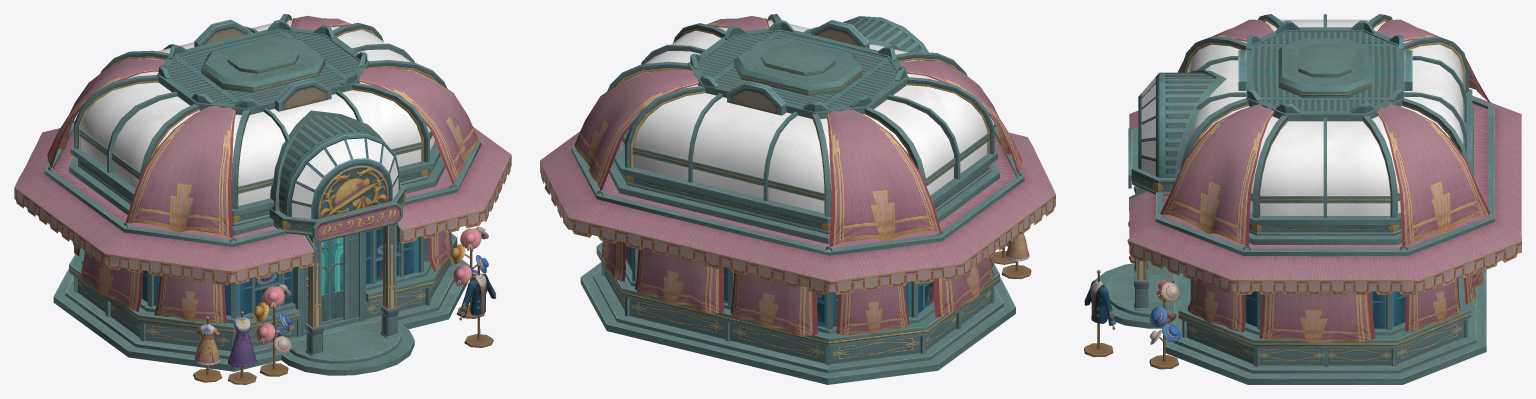
File: Homeworld_Exterior_Fd_Build_DressStore_01_Lod0.fbx
3 views of the same model, side by side, from view 1: azimuth 30°, elevation 25°; view 2: azimuth 150°, elevation 25°; view 3: azimuth 270°, elevation 25° (orthographic). The views are drawn at different scales.
Parts seen in each view (by area): view 1: Homeworld_Exterior_Fd_Build_DressStore_01_Lod0; view 2: Homeworld_Exterior_Fd_Build_DressStore_01_Lod0; view 3: Homeworld_Exterior_Fd_Build_DressStore_01_Lod0.
Boxes of the visible parts, box(x1,y1,x2,y2) form: Homeworld_Exterior_Fd_Build_DressStore_01_Lod0: box(14, 14, 511, 384); Homeworld_Exterior_Fd_Build_DressStore_01_Lod0: box(540, 14, 1055, 384); Homeworld_Exterior_Fd_Build_DressStore_01_Lod0: box(1084, 14, 1521, 384).
Size of what is drawn, in the model's own units: 11.22 by 6.21 by 10.14.
